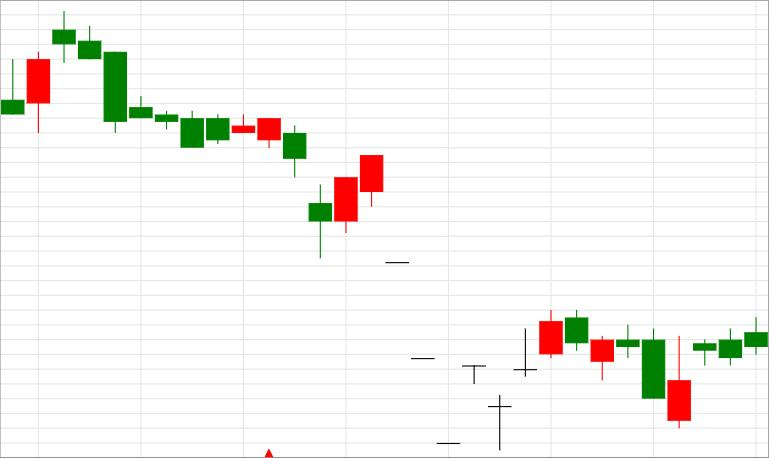inverse_hammer_rise: (565, 309, 691, 429)
